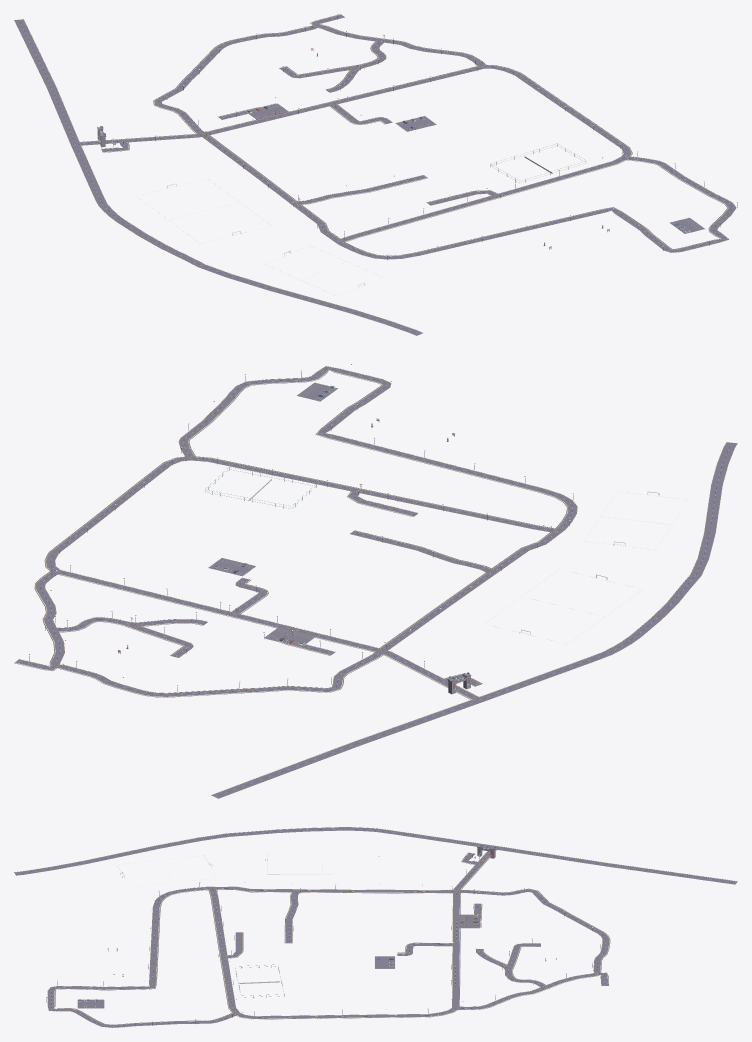
The model's file is campus-props-fantasy.glb.
The picture shows the model from 3 angles, top to bottom: view 1: azimuth 30°, elevation 25°; view 2: azimuth 150°, elevation 25°; view 3: azimuth 270°, elevation 25°; orthographic projection. The views are drawn at different scales.
Visible parts, largest first — view 1: campus_props; view 2: campus_props; view 3: campus_props.
Boxes of the visible parts, <box> form: campus_props: <box>14,14,737,335</box>; campus_props: <box>14,364,737,798</box>; campus_props: <box>14,827,737,1027</box>.
Bounding box in the file's own units: 431 × 10.1 × 657.
31 materials, 3 textured.
